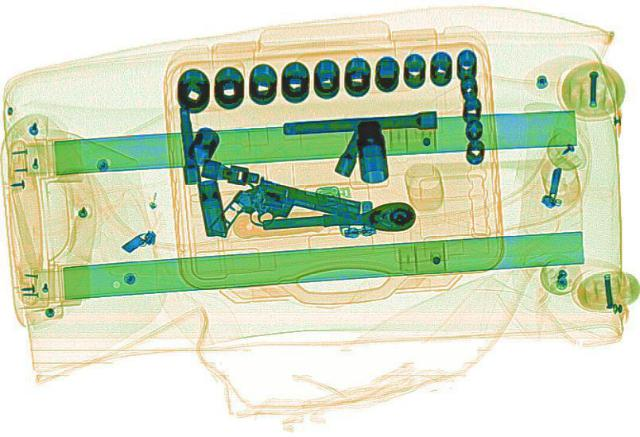Gun: (207, 173, 366, 260)
